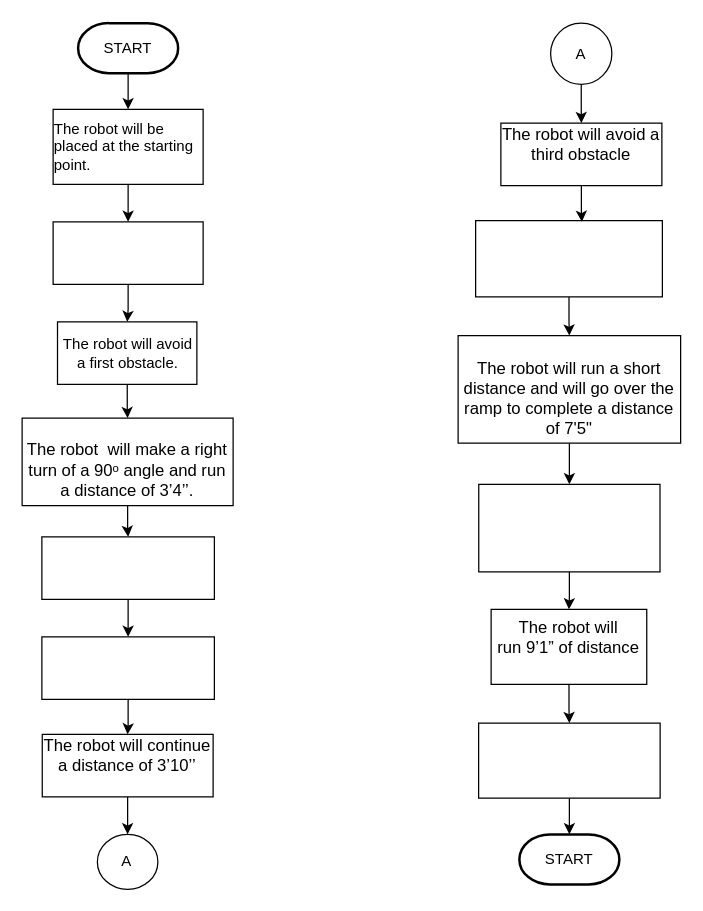
This 703x911 diagram has some shape labels left out. The shapes that lost their labels are listed below. From the top down, each one's centre as x and y in pixels, then its label:
At (127,252): "The r obot will start runnin g a distance of 3’ 3”".
At (568,258): "The r obot will make a right turn of a 90ᵒ angle".
At (569,527): "The r obot will make a right turn of an angle of 45ᵒ".
At (127,567): "The r obot will avoid the second obstacle".
At (127,667): "The r obot will mak e a left turn of a 90ᵒ angle".
At (568,760): "The r obot wll impact with a group of pins".
